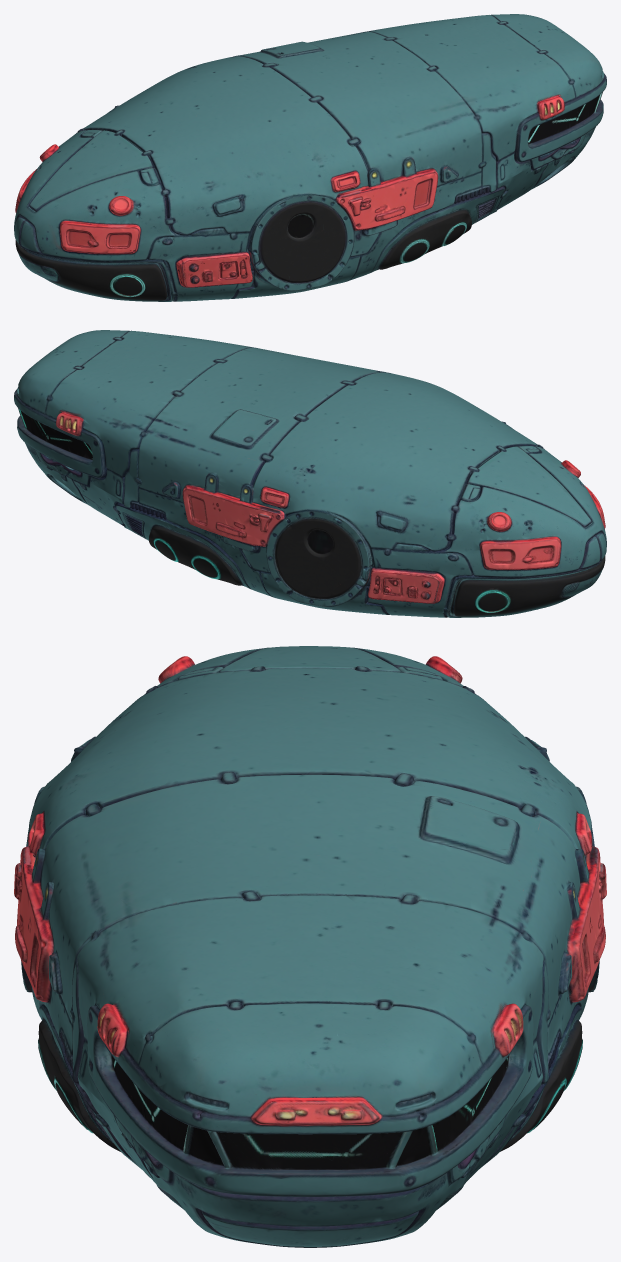
File: starpod_vehicle_v1.glb
3 views of the same model, one above another, from view 1: azimuth 30°, elevation 25°; view 2: azimuth 150°, elevation 25°; view 3: azimuth 270°, elevation 25° (orthographic). The views are drawn at different scales.
Size of the model in its own units: 1.9 by 0.5431 by 0.9227.
1 material, 1 textured.
